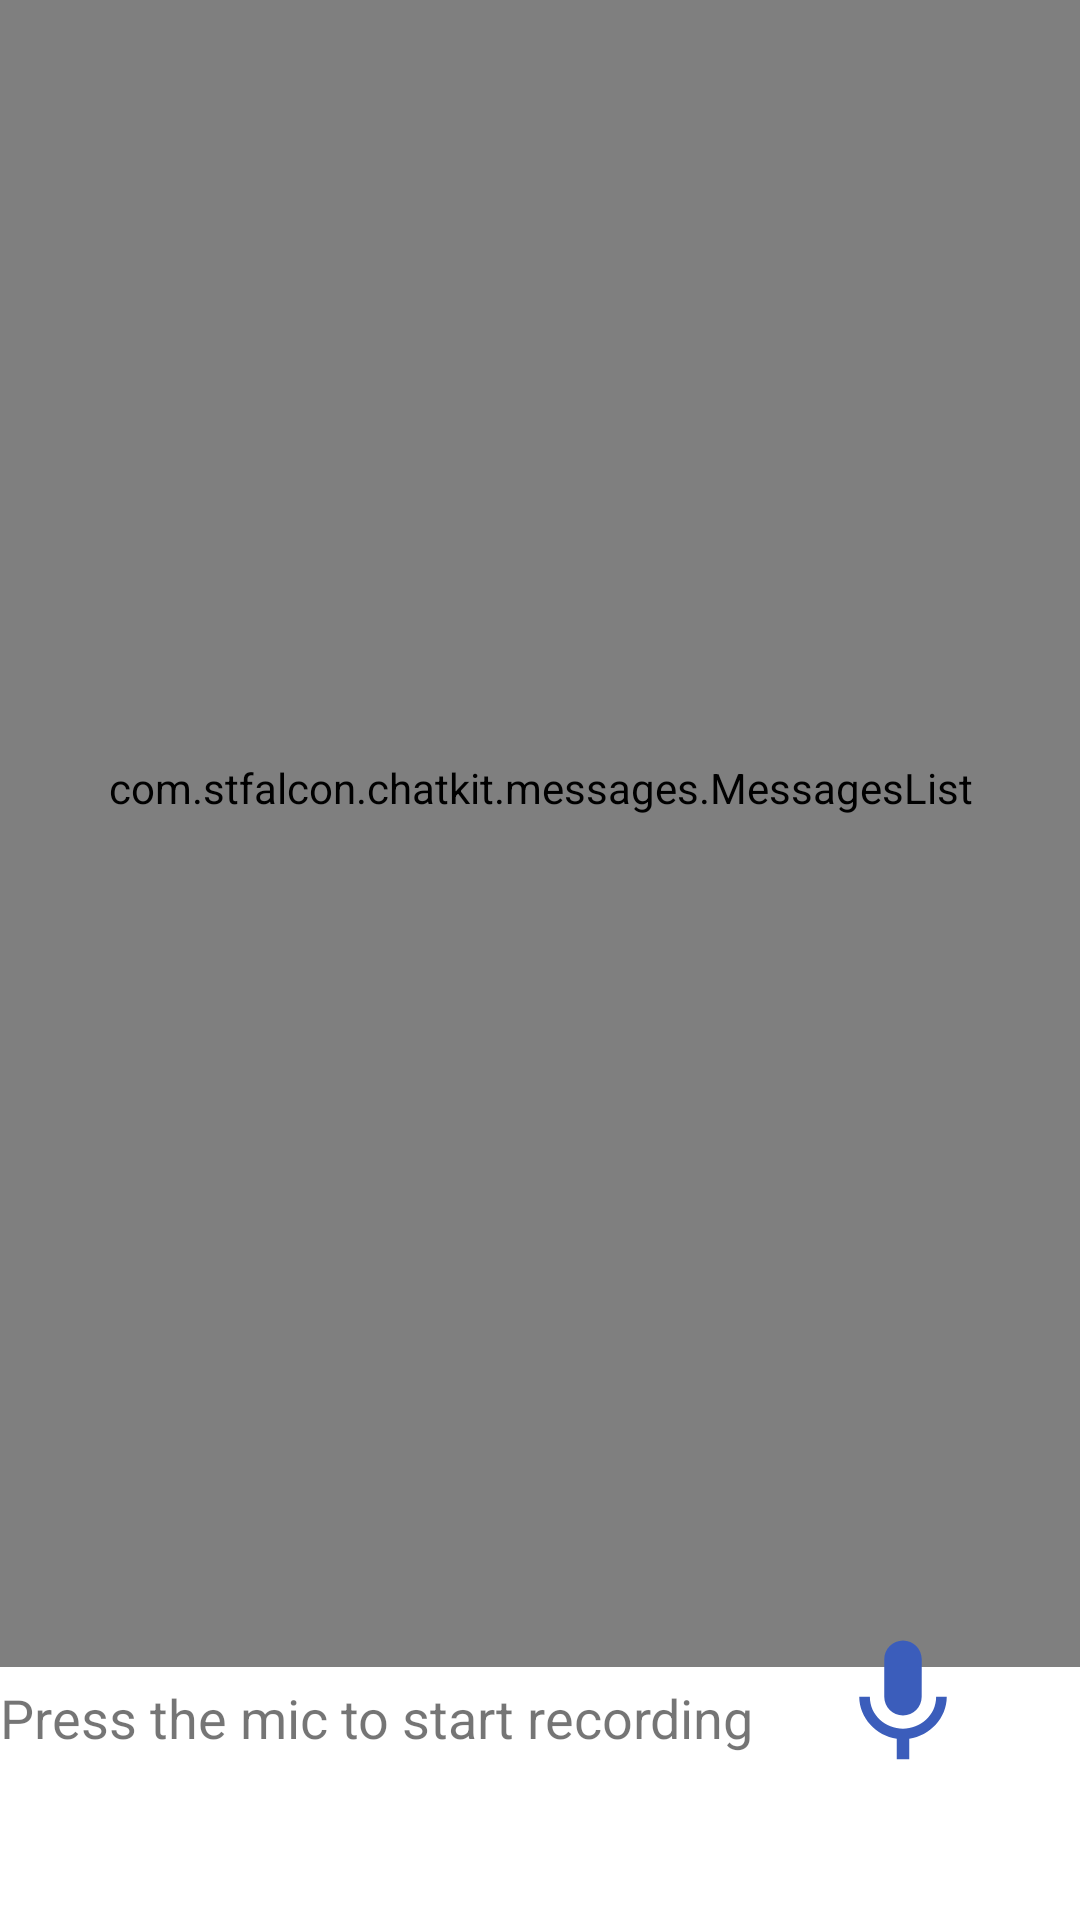

Icon click points for this 1080x1920 phone screenshot, format [x,y]:
mic speech: [903,1694]
